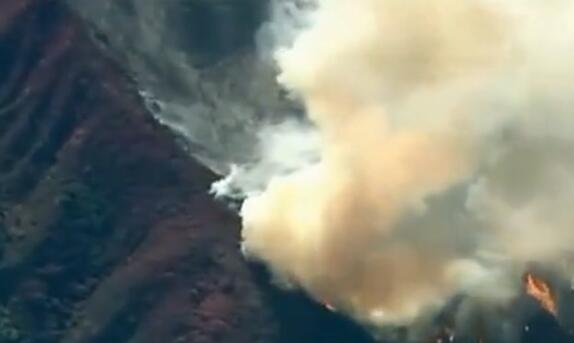fire: (524, 272, 560, 316)
yanwu: (212, 0, 574, 329)
